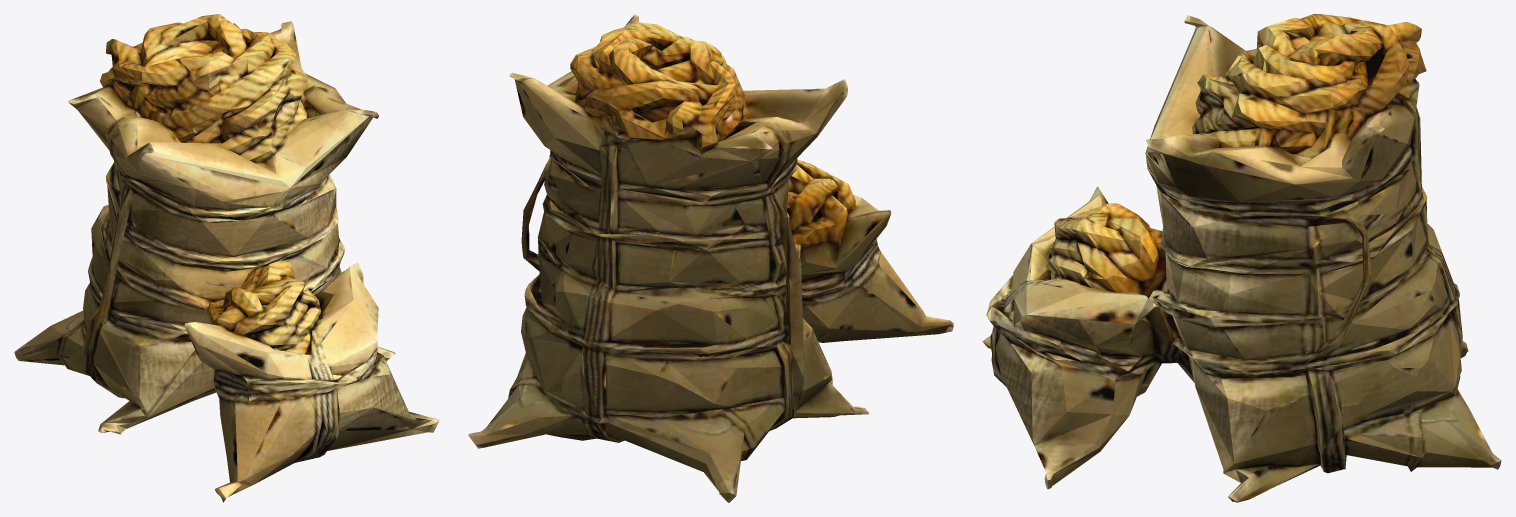
Rendered from prop_grain_sack_stack_01.glb.
3 renders of one model, left to right at view 1: azimuth 30°, elevation 25°; view 2: azimuth 150°, elevation 25°; view 3: azimuth 270°, elevation 25°, orthographic. The views are drawn at different scales.
Parts seen in each view (by area): view 1: geometry_0; view 2: geometry_0; view 3: geometry_0.
Boxes of the visible parts, x1,y1,x2,y2 form: geometry_0: (14,14,439,502); geometry_0: (468,14,953,502); geometry_0: (982,14,1501,502).
Size of the model in its own units: 0.7858 by 0.8663 by 0.9988.
Materials: 1 (1 with a texture image).
